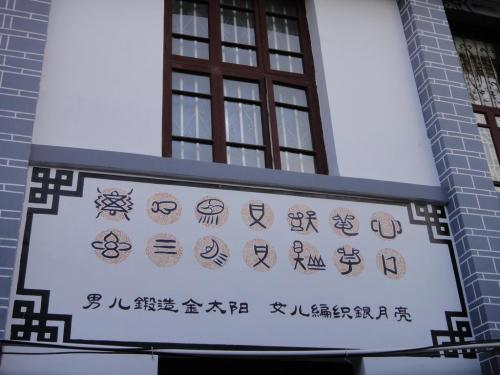chinese: (79, 289, 415, 327)
naxi: (87, 181, 409, 241), (88, 221, 403, 275)
